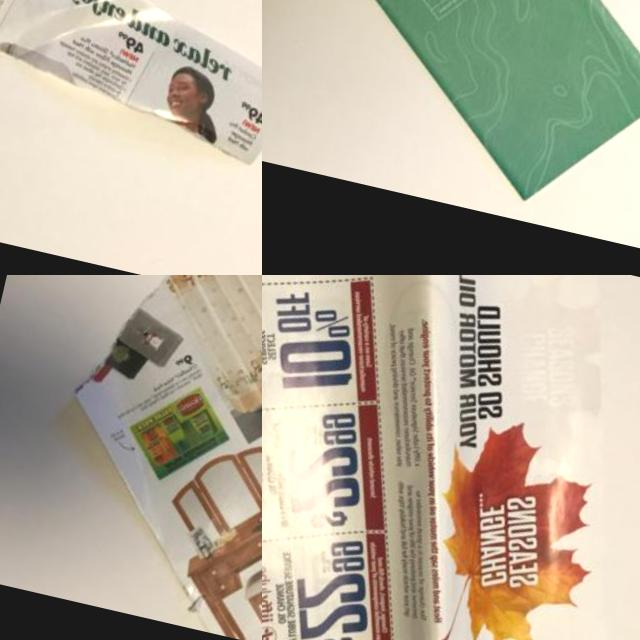papel: (262, 275, 640, 640), (262, 0, 640, 231), (31, 275, 262, 640), (0, 0, 262, 171)
